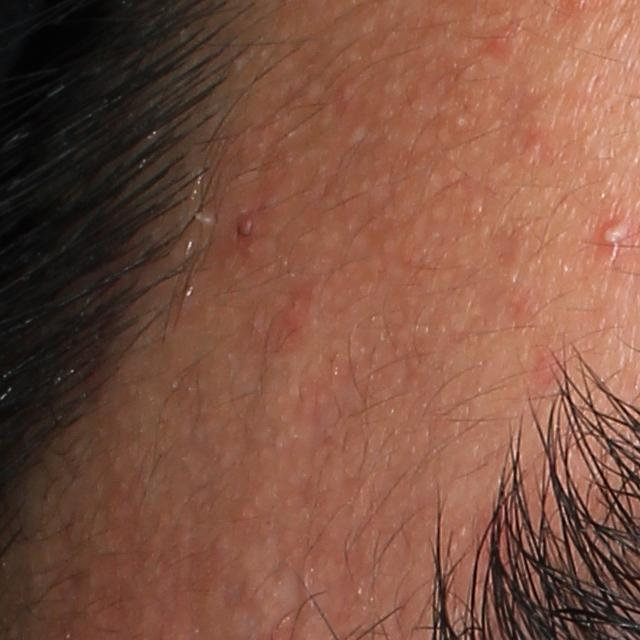comedo: (451, 109, 468, 131)
papule: (229, 206, 268, 262)
